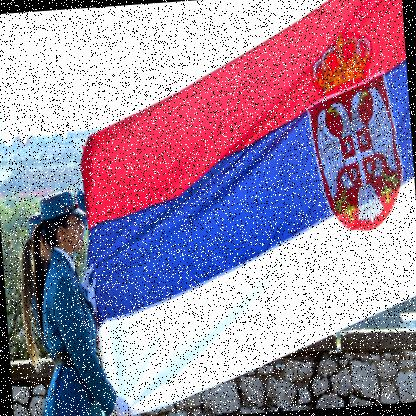rs: (70, 1, 416, 416)
